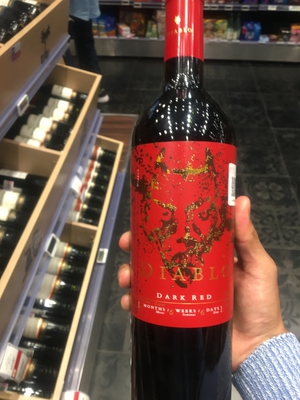diablo dark red: (125, 12, 252, 400)
